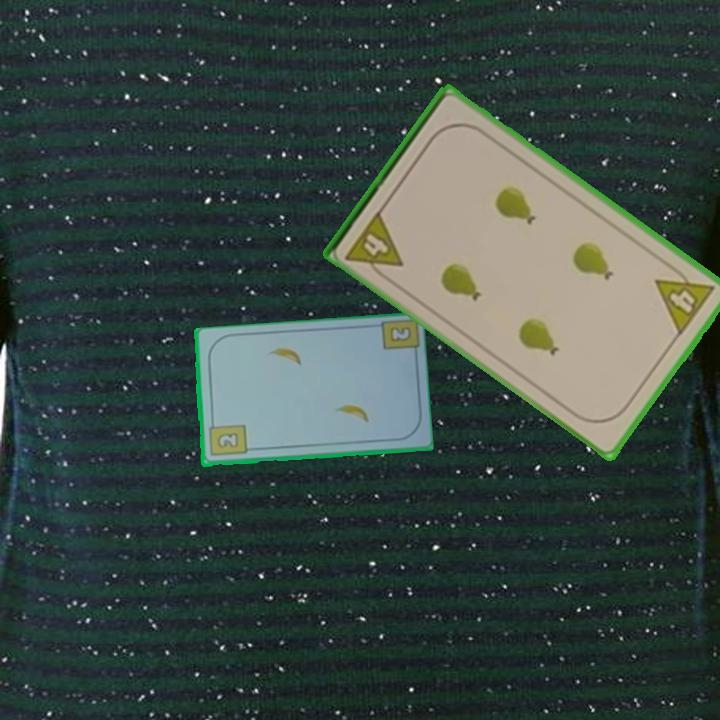2b: (205, 417, 249, 459), (386, 323, 414, 345)
4p: (651, 259, 718, 339), (342, 206, 406, 284)
